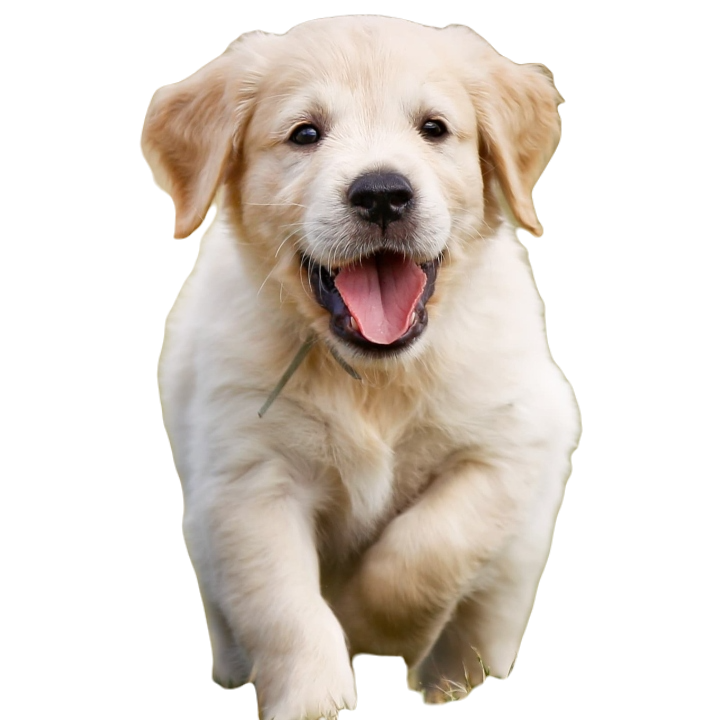Dog: (139, 14, 582, 719)
